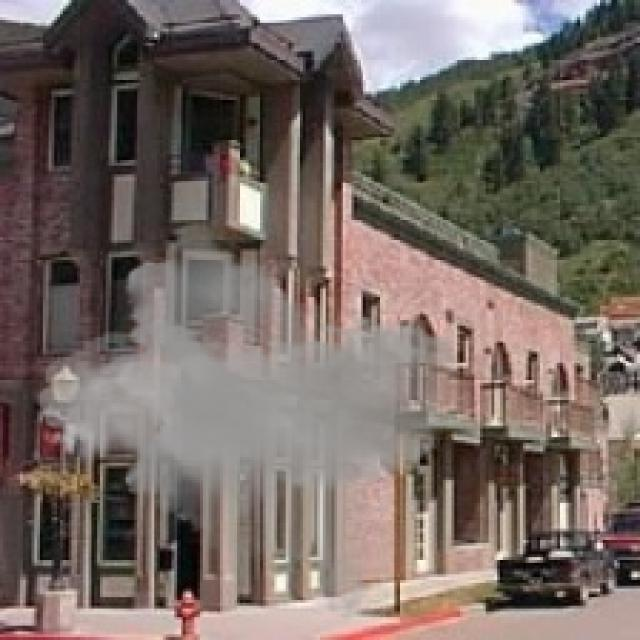Smoke: (37, 208, 460, 623)
